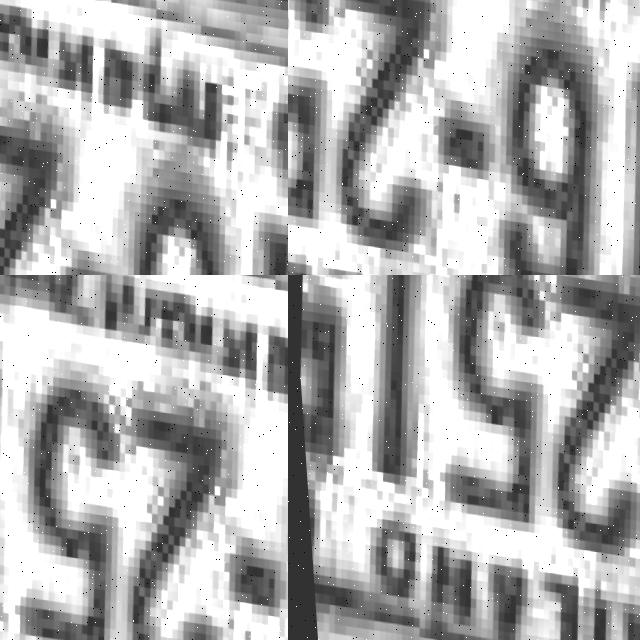license-plate: (288, 275, 640, 640), (0, 275, 288, 640), (288, 0, 640, 275)
